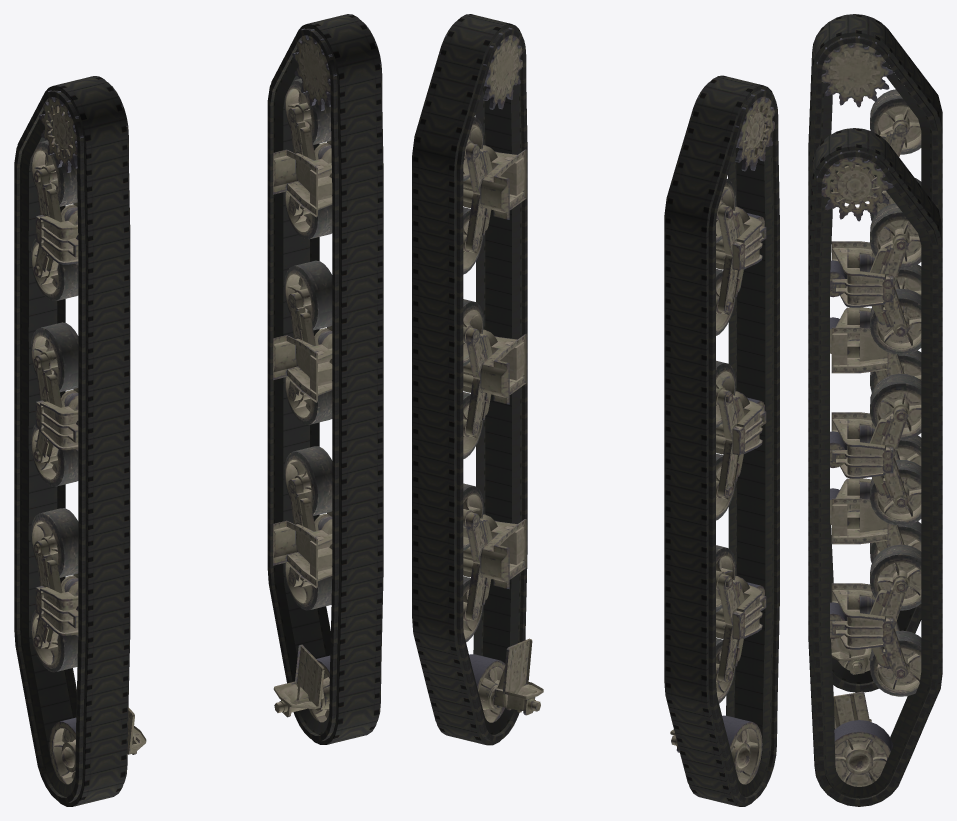
File: Chassis.glb
3 renders of one model, left to right at view 1: azimuth 30°, elevation 25°; view 2: azimuth 150°, elevation 25°; view 3: azimuth 270°, elevation 25°, orthographic. The views are drawn at different scales.
Visible parts, largest first — view 1: set_0_group_0, set_1_group_0, set_3_group_0, set_2_group_0; view 2: set_0_group_0, set_1_group_0, set_3_group_0, set_2_group_0; view 3: set_3_group_0, set_1_group_0, set_2_group_0, set_0_group_0.
Part boxes in pixels (x1,y1,x2,y2): set_0_group_0: (14,76,130,806); set_1_group_0: (267,14,383,744); set_3_group_0: (273,27,381,722); set_2_group_0: (31,89,146,784); set_0_group_0: (664,75,779,806); set_1_group_0: (412,14,527,745); set_3_group_0: (439,22,543,722); set_2_group_0: (670,83,774,784); set_3_group_0: (816,150,921,786); set_1_group_0: (808,128,942,806); set_2_group_0: (816,36,921,674); set_0_group_0: (808,14,942,692).
Size of the model in its own units: 2.67 by 5.95 by 1.1.
Materials: 4 (4 with a texture image).
